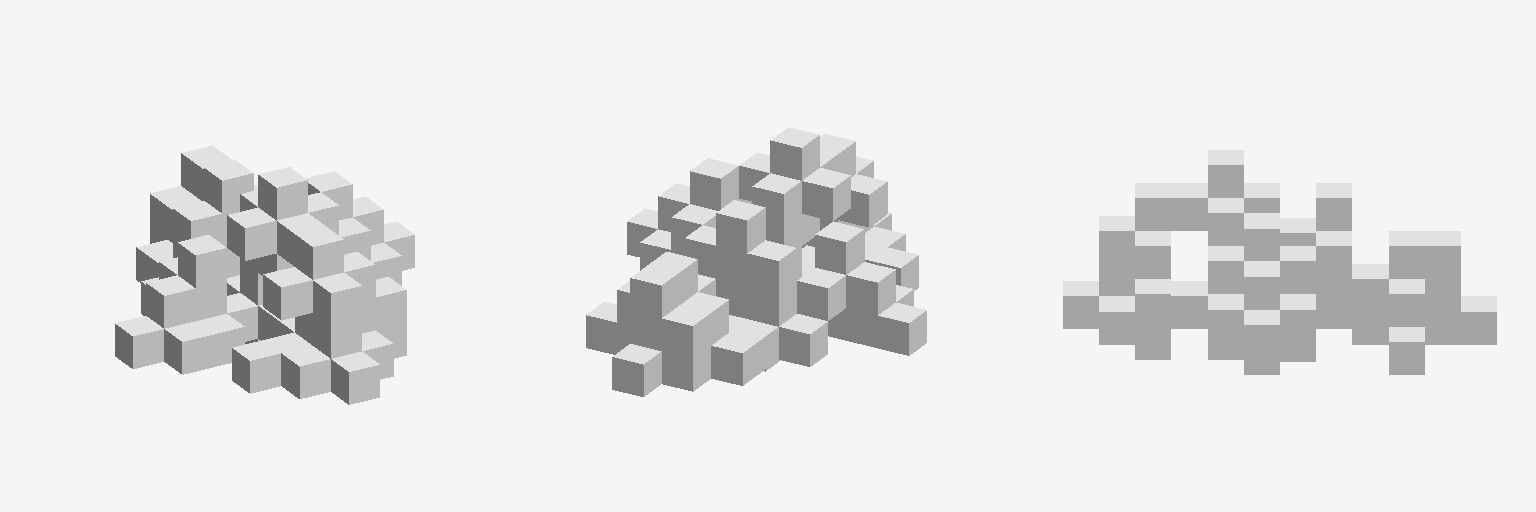
The model's file is bush02.obj.
3 renders of one model, left to right at view 1: azimuth 30°, elevation 25°; view 2: azimuth 150°, elevation 25°; view 3: azimuth 270°, elevation 25°, orthographic.
Visible parts, largest first — view 1: bush02; view 2: bush02; view 3: bush02.
Boxes of the visible parts, x1,y1,x2,y2 form: bush02: [115, 145, 414, 404]; bush02: [586, 127, 926, 396]; bush02: [1063, 150, 1496, 374].
Bounding box in the file's own units: 9 × 6 × 12.